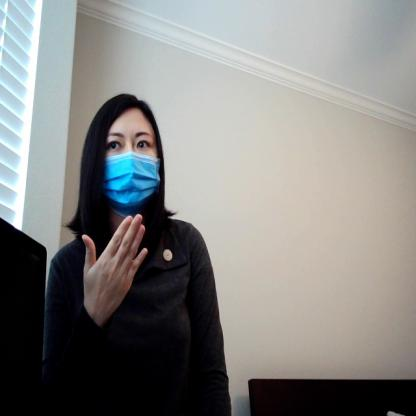thanks: (75, 212, 153, 324)
